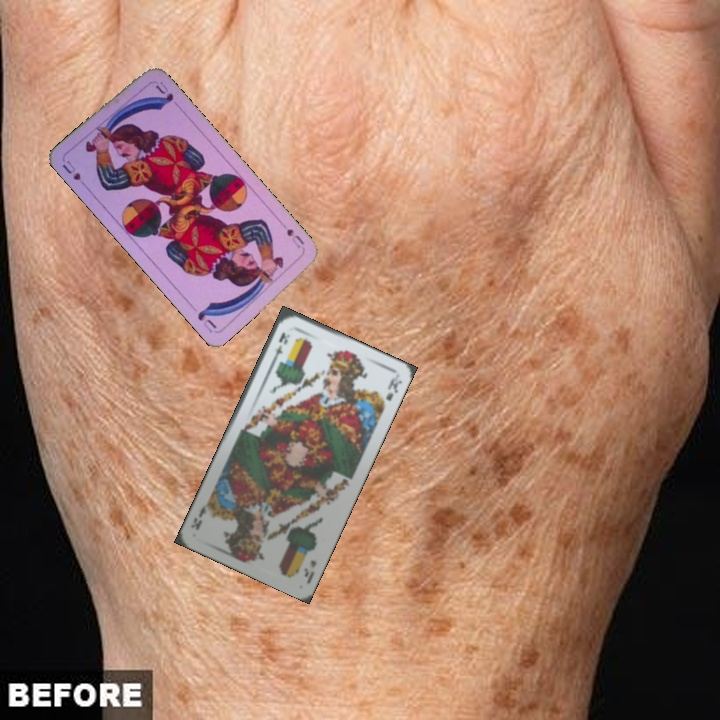EK: (269, 328, 292, 363), (299, 556, 319, 586)
SU: (282, 224, 307, 253), (58, 156, 83, 183)
